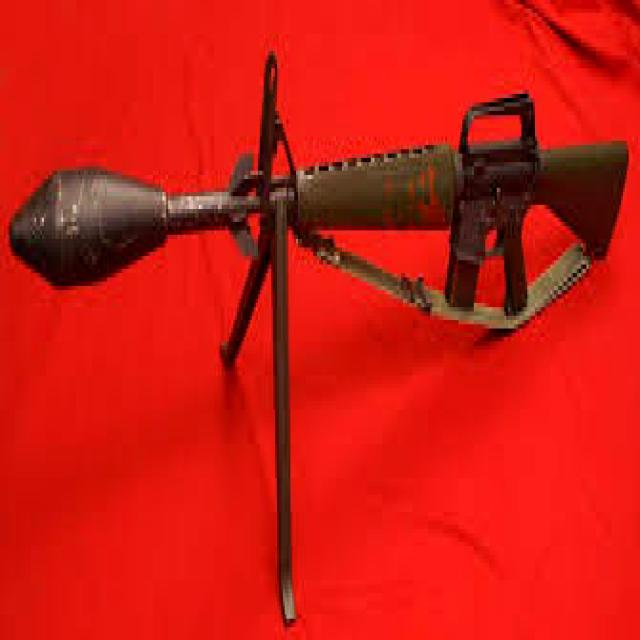m16: (256, 69, 633, 325)
